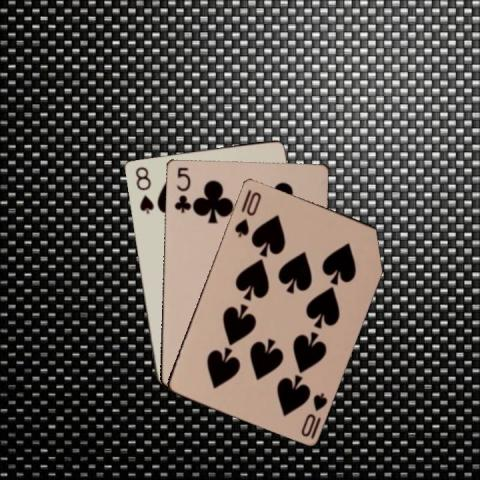10s: (231, 188, 263, 238), (297, 389, 329, 438)
5c: (170, 164, 190, 214)
8s: (132, 163, 155, 216)
